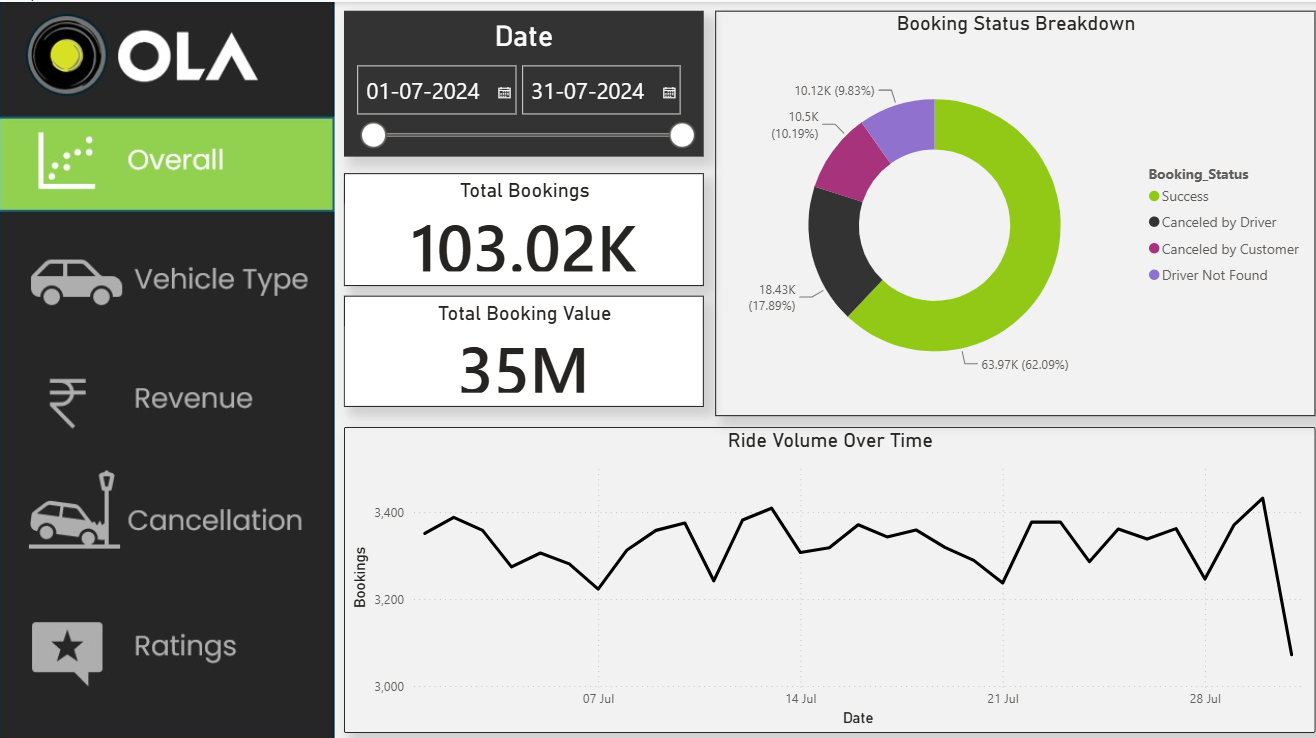

The dashboard page shown, as its layout file describes it:
{"tool":"powerbi","page":{"name":"Overall","canvas":[1280,720],"ordinal":0},"visuals":[{"type":"actionButton","box":[0,219.6,323.3,91.7],"z":0},{"type":"actionButton","box":[0,336.6,323.3,91.7],"z":1000},{"type":"actionButton","box":[0,454.8,323.3,91.7],"z":2000},{"type":"actionButton","box":[0,579.1,323.3,91.7],"z":3000},{"type":"actionButton","box":[0,108.6,323.3,91.7],"z":4000},{"type":"lineChart","title":"Ride Volume Over Time","fields":{"Y":["CountNonNull(July.Booking_ID)"],"Category":["July.Date"]},"box":[333,410.2,937.4,295.6],"z":5000},{"type":"donutChart","title":"Booking Status Breakdown","fields":{"Category":["July.Booking_Status"],"Y":["CountNonNull(July.Booking_Status)"]},"box":[691.3,8.4,579.1,390.9],"z":6000},{"type":"slicer","title":"Date","fields":{"Values":["July.Date"]},"box":[333,8.4,347.5,141.2],"z":7000},{"type":"cardVisual","title":"Total Bookings","fields":{"Data":["Count(July.Booking_ID)"]},"box":[333,165.3,347.5,108.6],"z":8000},{"type":"cardVisual","title":"Total Booking Value","fields":{"Data":["Sum(July.Booking_Value)"]},"box":[333,283.5,347.5,107.4],"z":9000}]}

Visuals, with their boxes in screenshot pixels (x1, y1, x2, y2), scaled from the page's 1280x720 canvas onto the 1316x738 screenshot:
actionButton: select_region(0, 225, 332, 319)
actionButton: select_region(0, 345, 332, 439)
actionButton: select_region(0, 466, 332, 560)
actionButton: select_region(0, 594, 332, 688)
actionButton: select_region(0, 111, 332, 205)
"Ride Volume Over Time" lineChart: select_region(342, 420, 1306, 723)
"Booking Status Breakdown" donutChart: select_region(711, 9, 1306, 409)
"Date" slicer: select_region(342, 9, 700, 153)
"Total Bookings" cardVisual: select_region(342, 169, 700, 281)
"Total Booking Value" cardVisual: select_region(342, 291, 700, 401)
